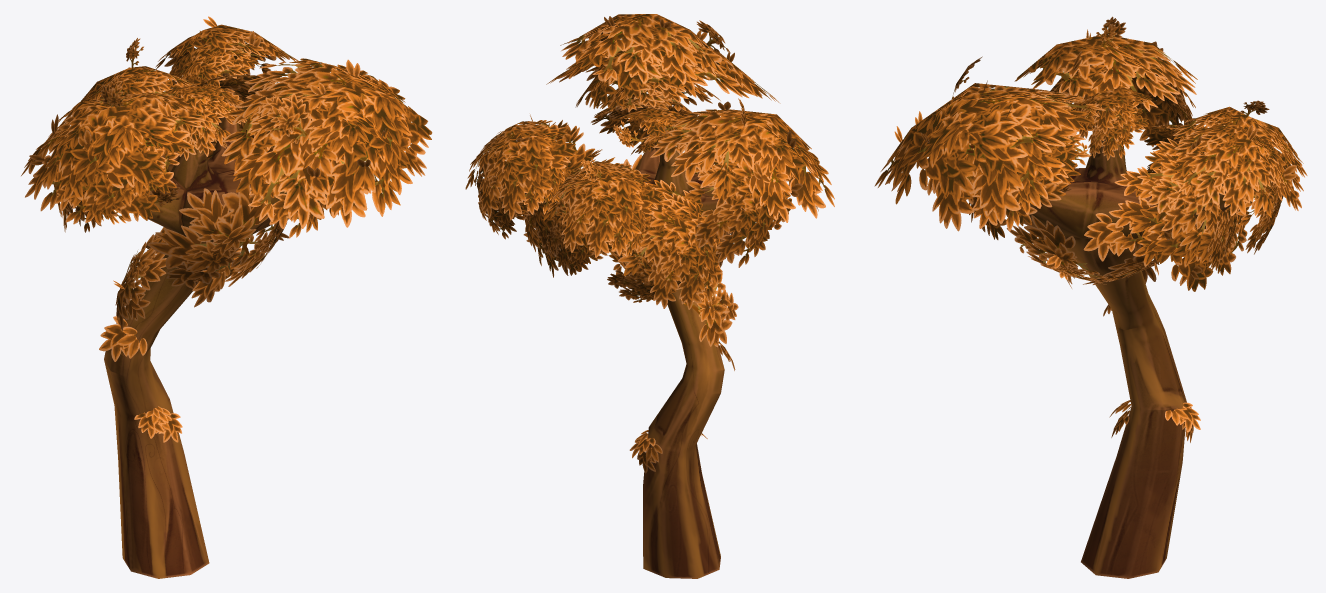
File: 6_Cafe.fbx
3 views of the same model, side by side, from view 1: azimuth 30°, elevation 25°; view 2: azimuth 150°, elevation 25°; view 3: azimuth 270°, elevation 25° (orthographic). The views are drawn at different scales.
Visible parts, largest first — view 1: 6_Cafe_LOD_0; view 2: 6_Cafe_LOD_0; view 3: 6_Cafe_LOD_0.
Boxes of the visible parts, left/top/right/bottom form: 6_Cafe_LOD_0: left=21, top=16, right=432, bottom=578; 6_Cafe_LOD_0: left=465, top=14, right=834, bottom=578; 6_Cafe_LOD_0: left=874, top=16, right=1307, bottom=578.
Size of the model in its own units: 528 by 768 by 573.
